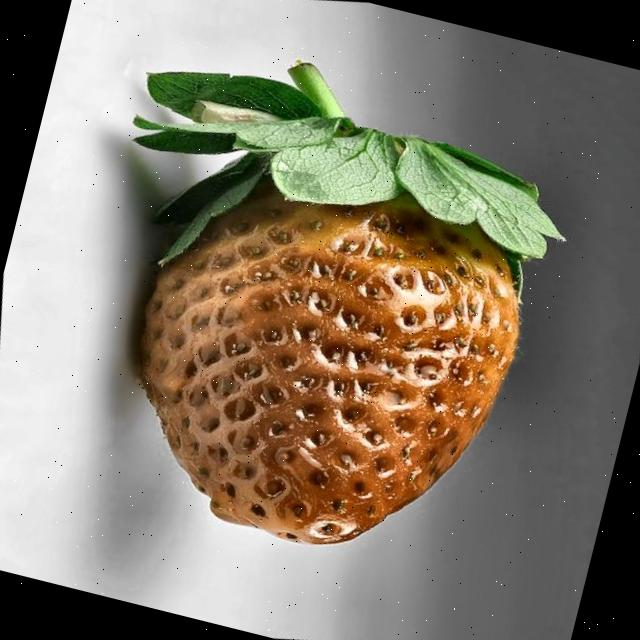strawberry: (134, 62, 562, 544)
